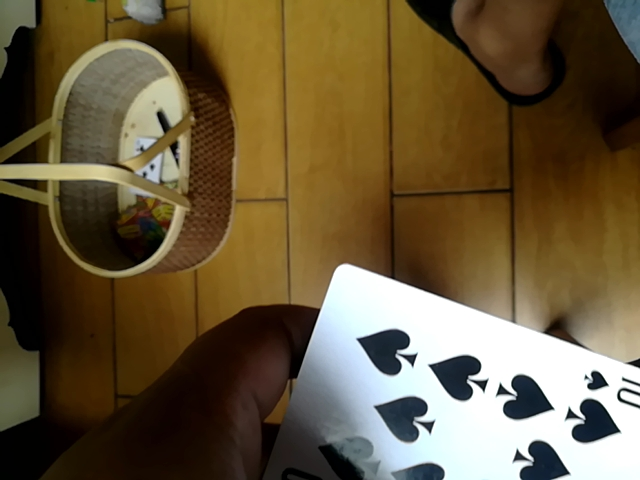ht 10: (261, 265, 640, 479)
